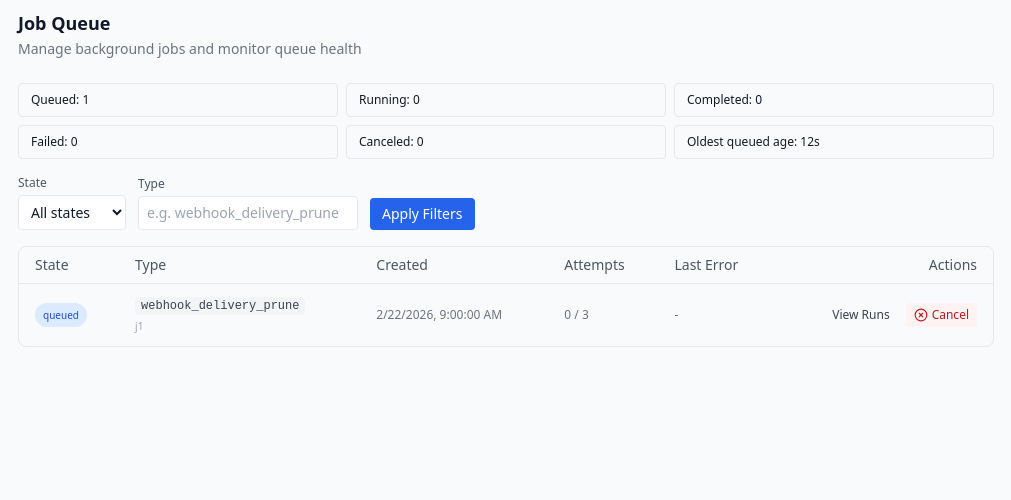
Scenario: Jobs › shows run-history empty state
Click the button with aria-label "View runs for job j1" at (861, 315), box x1=824 y1=303 x2=898 y2=327
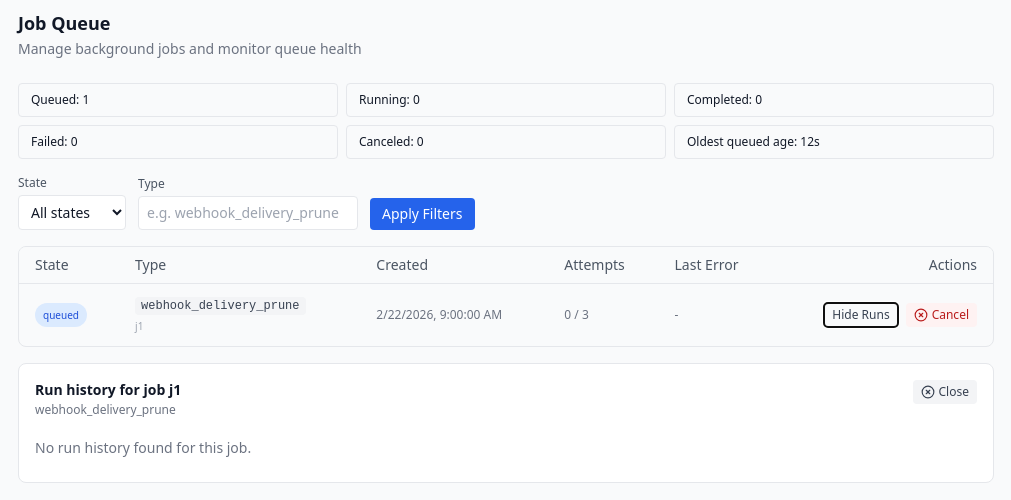
Expected: the text "No run history found for this job." is shown, x1=35 y1=438 x2=251 y2=457
